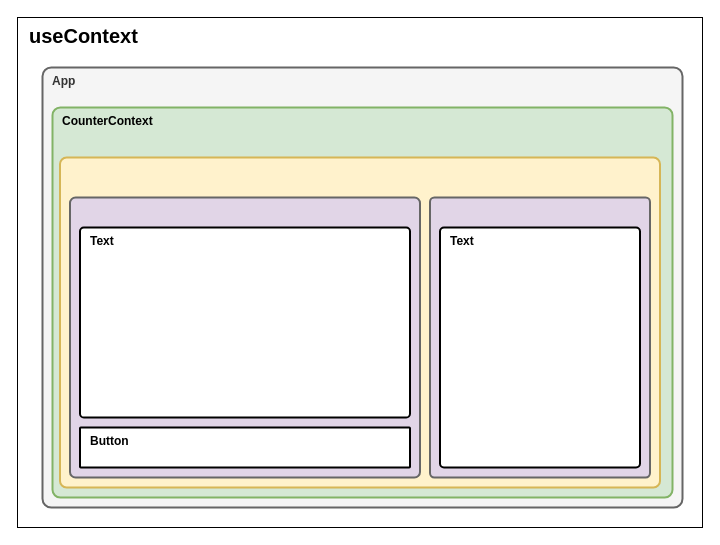
Some shapes in this 720 by 545 pixel diagram are drawn without their labels. The box of each missing label's shape, as (x1, y1, x2, y2) in pixels:
Main: (58, 156, 660, 488)
Section: (68, 196, 420, 478)
SideBar: (428, 196, 650, 478)
